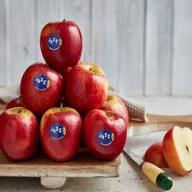apple: (82, 111, 128, 158), (40, 110, 81, 158), (40, 22, 84, 66), (19, 64, 64, 104), (161, 120, 191, 174), (69, 68, 109, 106)
